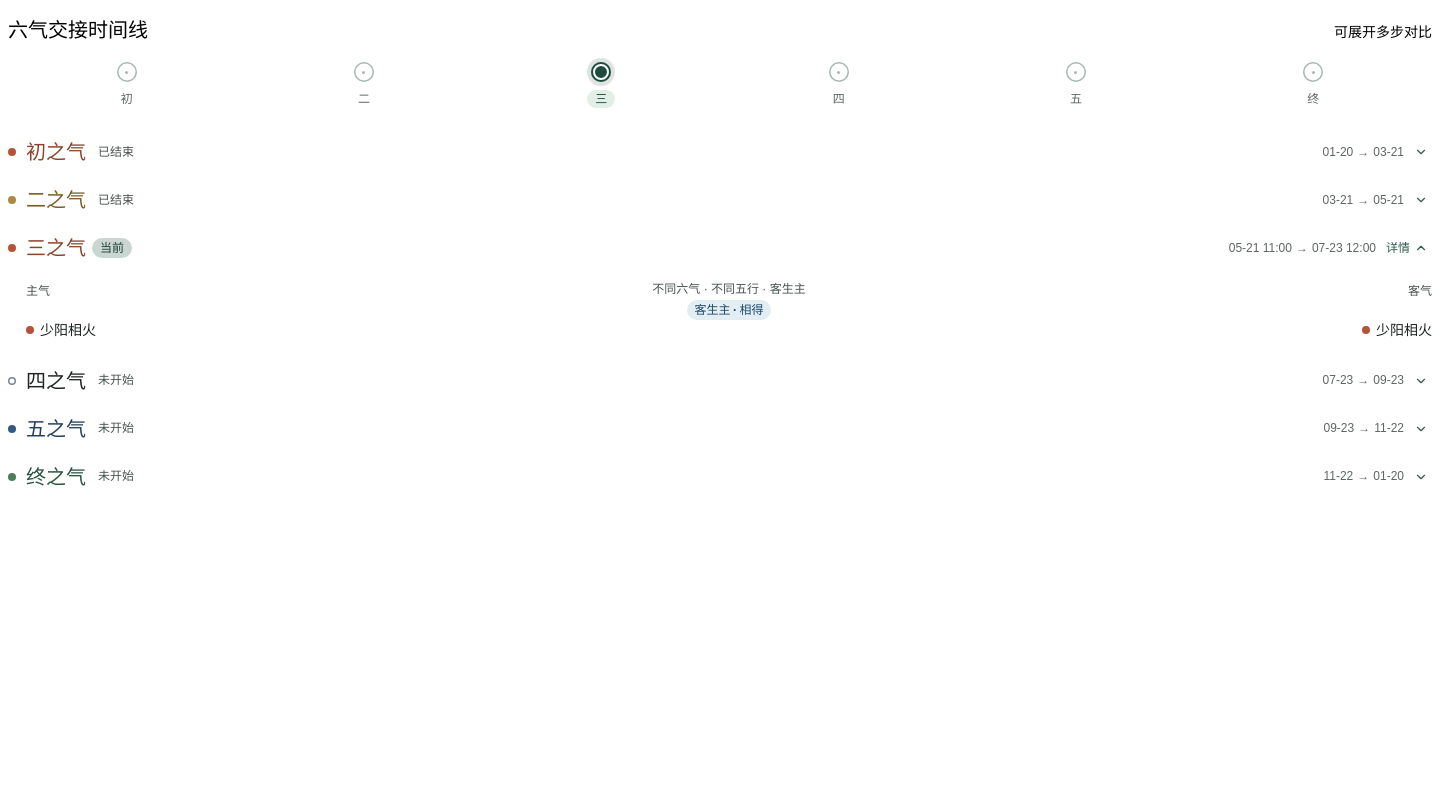
panel stage navigation replacing the demo rail › connects six categorical controls to direct API indexes, statuses and exact boundary times
The image size is (1440, 810).
Click the button named "第 1 步" at point(127, 84), box [8, 56, 245, 112]
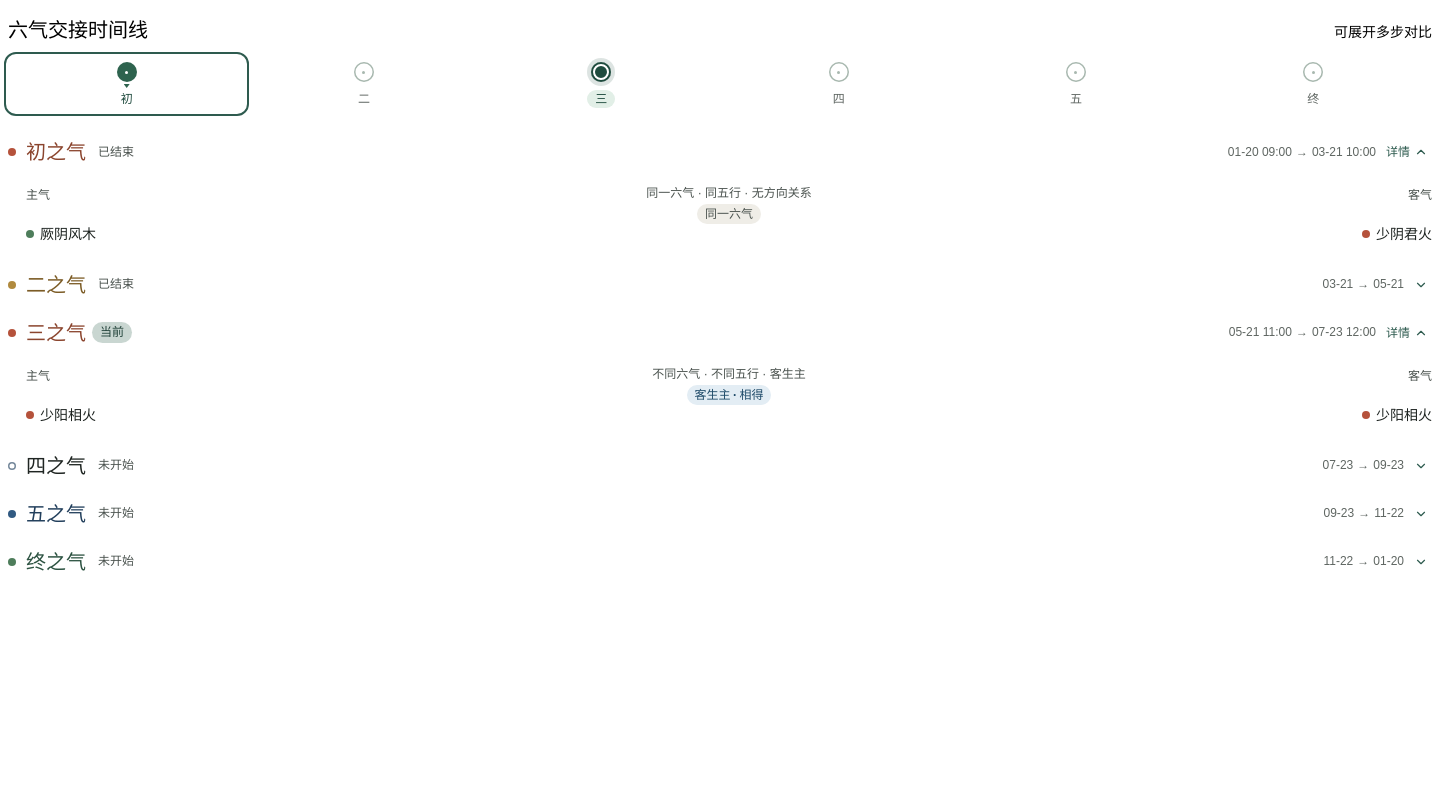
Expected: the element named "三之气详情" is shown, [26, 357, 1432, 442]
Expected: the button named "第 1 步" is expanded, [8, 56, 245, 112]
Expected: the element named "初之气详情" is shown, [26, 176, 1432, 261]
